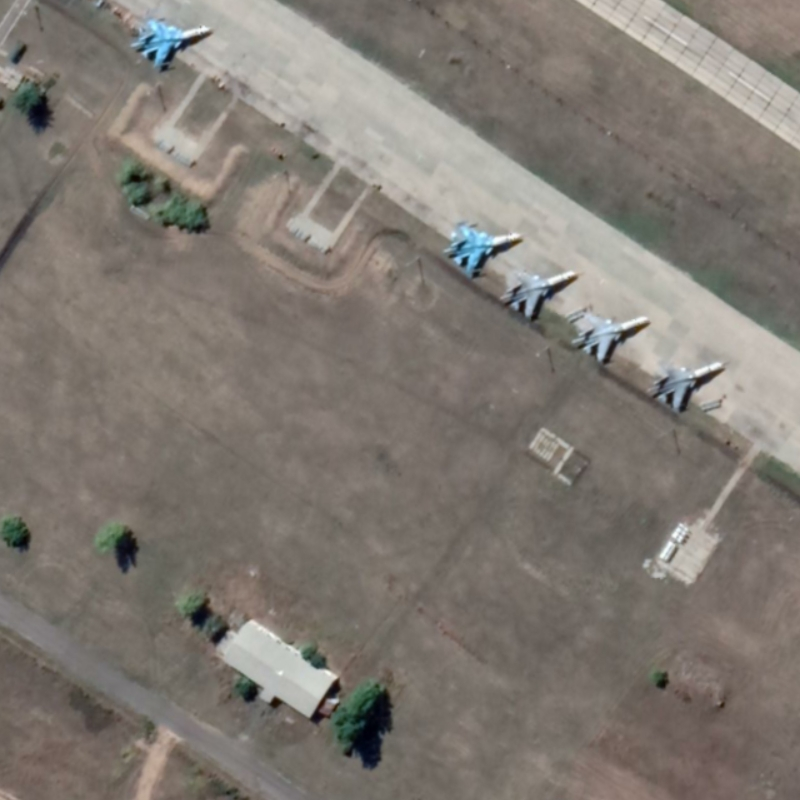A19: (445, 218, 526, 283), (126, 14, 214, 73), (570, 306, 653, 364), (644, 356, 728, 413), (498, 266, 580, 321)
